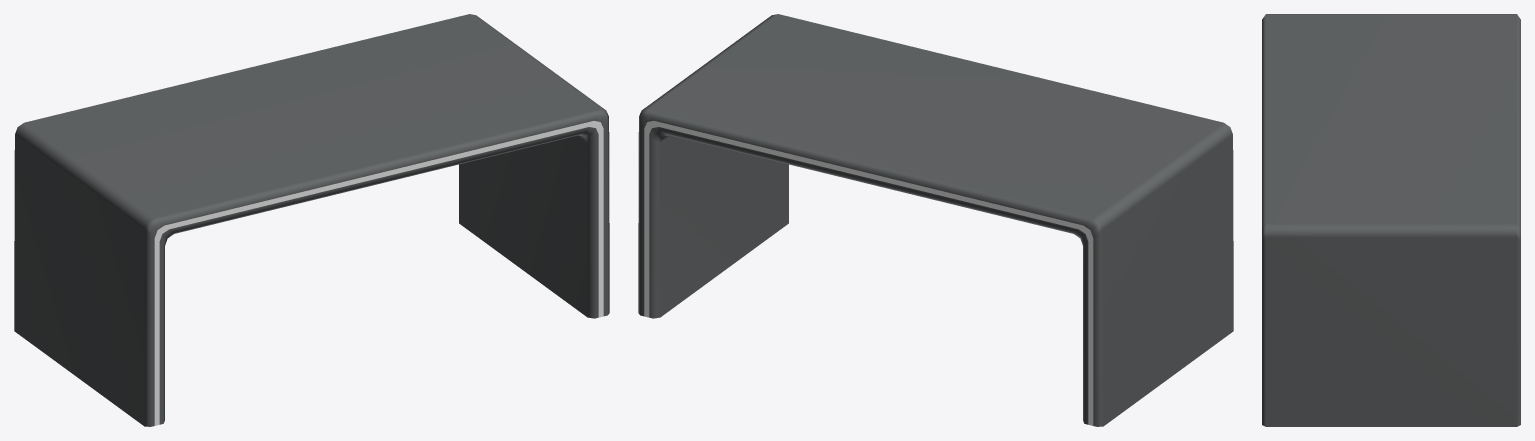
File: Desk_038.fbx
The picture shows the model from 3 angles, left to right: view 1: azimuth 30°, elevation 25°; view 2: azimuth 150°, elevation 25°; view 3: azimuth 270°, elevation 25°; orthographic projection. The views are drawn at different scales.
Visible parts, largest first — view 1: Desk_038; view 2: Desk_038; view 3: Desk_038.
Boxes of the visible parts, left/top/right/bottom form: Desk_038: left=14, top=14, right=609, bottom=426; Desk_038: left=638, top=14, right=1233, bottom=426; Desk_038: left=1262, top=14, right=1520, bottom=426.
Size of the model in its own units: 200 by 100 by 84.66.
